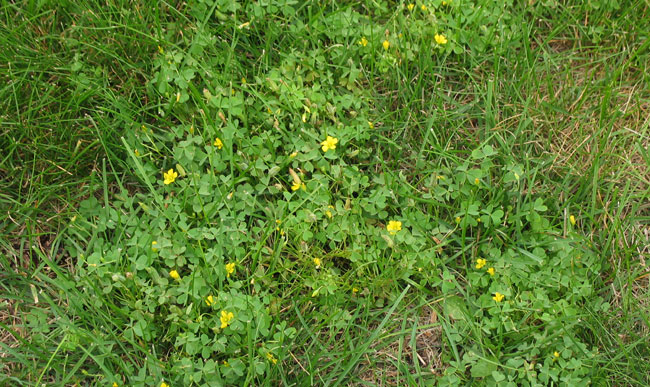oxalis: (163, 97, 411, 275)
